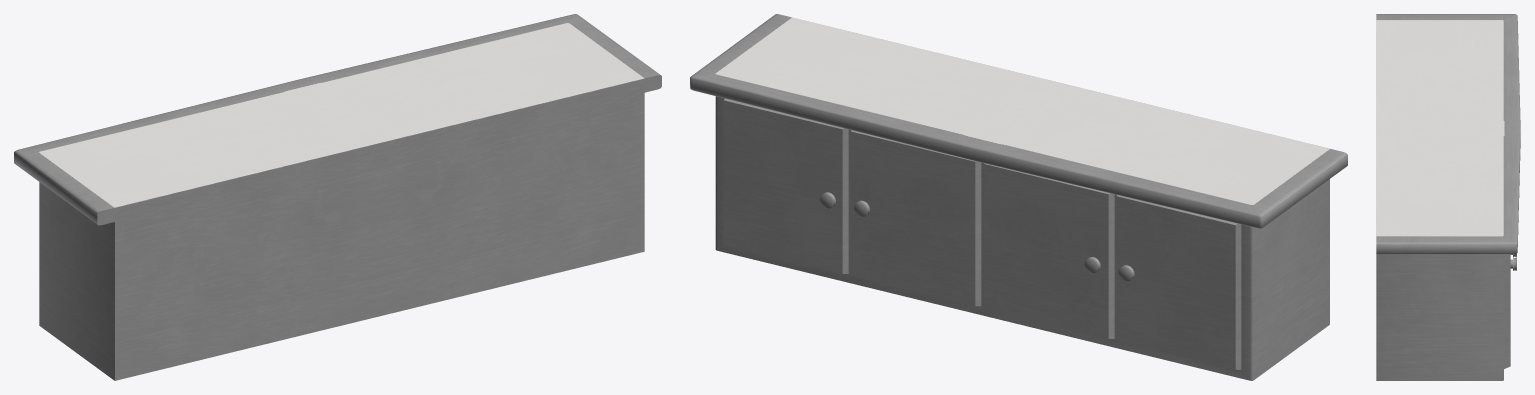
Rendered from KitcehnTable.fbx.
The picture shows the model from 3 angles, left to right: view 1: azimuth 30°, elevation 25°; view 2: azimuth 150°, elevation 25°; view 3: azimuth 270°, elevation 25°; orthographic projection. The views are drawn at different scales.
Parts seen in each view (by area): view 1: KitchenTable.001; view 2: KitchenTable.001; view 3: KitchenTable.001.
Boxes of the visible parts, x1,y1,x2,y2 form: KitchenTable.001: [14, 14, 661, 380]; KitchenTable.001: [690, 14, 1347, 380]; KitchenTable.001: [1376, 14, 1520, 380].
Size of the model in its own units: 4.26 by 1.13 by 1.25.
